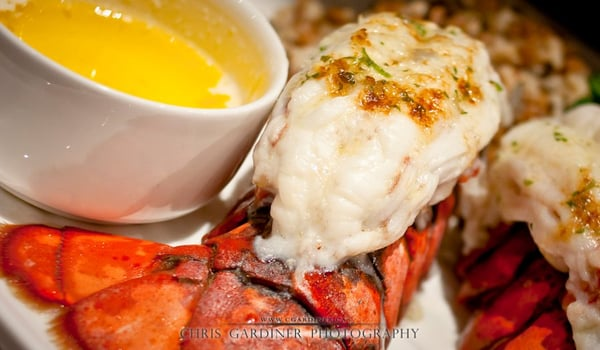soup: (197, 10, 507, 340), (452, 101, 599, 344)
sushi: (0, 0, 290, 224)
